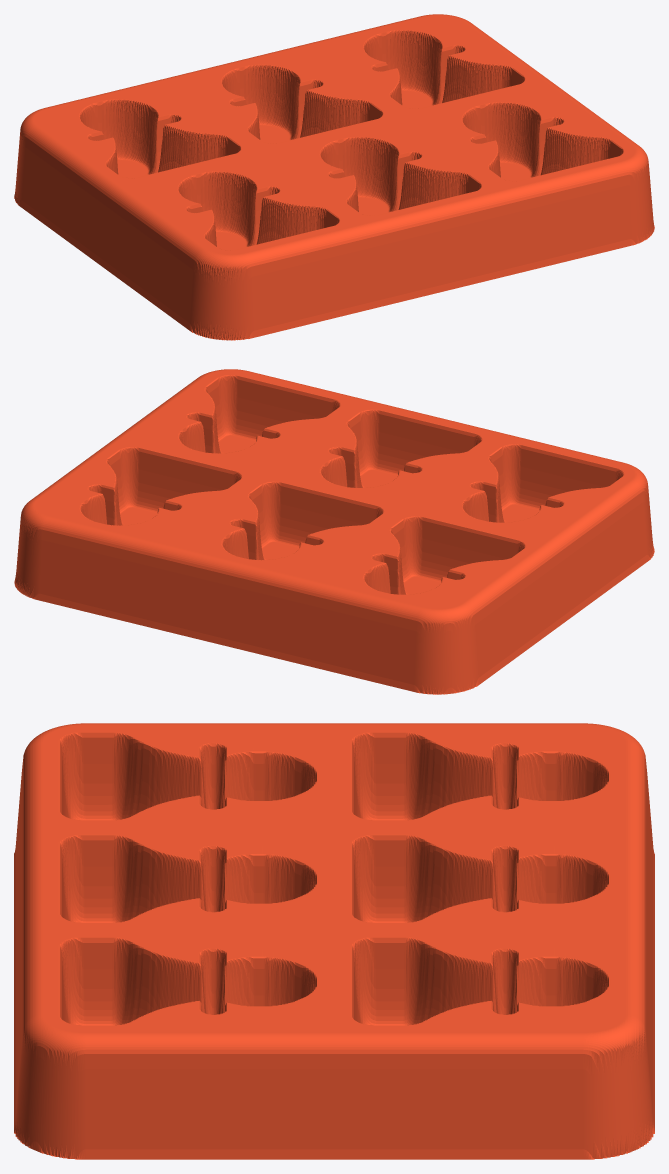
Rendered from mold.glb.
The picture shows the model from 3 angles, top to bottom: view 1: azimuth 30°, elevation 25°; view 2: azimuth 150°, elevation 25°; view 3: azimuth 270°, elevation 25°; orthographic projection. The views are drawn at different scales.
Visible parts, largest first — view 1: geometry_0; view 2: geometry_0; view 3: geometry_0.
Boxes of the visible parts, x1,y1,x2,y2 form: geometry_0: (14,14,654,340); geometry_0: (14,369,654,694); geometry_0: (14,723,654,1159).
Size of the model in its own units: 0.099 by 0.0159 by 0.0808.
